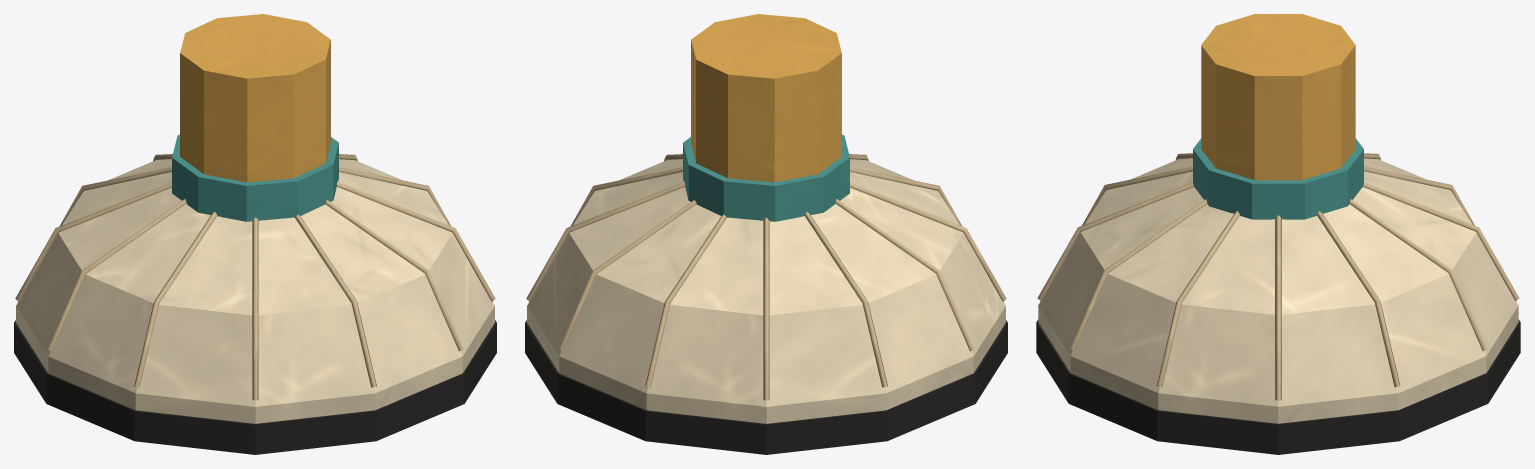
Rendered from tool_rubbing_pad.glb.
The picture shows the model from 3 angles, left to right: view 1: azimuth 30°, elevation 25°; view 2: azimuth 150°, elevation 25°; view 3: azimuth 270°, elevation 25°; orthographic projection.
Visible parts, largest first — view 1: tool_rubbing_pad__folded_paper_wrap, tool_rubbing_pad__handle, tool_rubbing_pad__rubbing_sole, tool_rubbing_pad__tie, tool_rubbing_pad__wrap_fold.008, tool_rubbing_pad__wrap_fold.007, tool_rubbing_pad__wrap_fold.009, tool_rubbing_pad__wrap_fold.011, tool_rubbing_pad__wrap_fold.006, tool_rubbing_pad__wrap_fold.005, tool_rubbing_pad__wrap_fold.010, tool_rubbing_pad__wrap_fold (+1 smaller); view 2: tool_rubbing_pad__folded_paper_wrap, tool_rubbing_pad__handle, tool_rubbing_pad__rubbing_sole, tool_rubbing_pad__tie, tool_rubbing_pad__wrap_fold.004, tool_rubbing_pad__wrap_fold.005, tool_rubbing_pad__wrap_fold.003, tool_rubbing_pad__wrap_fold.001, tool_rubbing_pad__wrap_fold.006, tool_rubbing_pad__wrap_fold.007, tool_rubbing_pad__wrap_fold.002, tool_rubbing_pad__wrap_fold.008 (+1 smaller); view 3: tool_rubbing_pad__folded_paper_wrap, tool_rubbing_pad__handle, tool_rubbing_pad__rubbing_sole, tool_rubbing_pad__tie, tool_rubbing_pad__wrap_fold, tool_rubbing_pad__wrap_fold.001, tool_rubbing_pad__wrap_fold.011, tool_rubbing_pad__wrap_fold.003, tool_rubbing_pad__wrap_fold.009, tool_rubbing_pad__wrap_fold.002, tool_rubbing_pad__wrap_fold.010, tool_rubbing_pad__wrap_fold.004 (+1 smaller).
Boxes of the visible parts, <box> form: tool_rubbing_pad__folded_paper_wrap: <box>16,159,494,423</box>; tool_rubbing_pad__handle: <box>180,14,330,182</box>; tool_rubbing_pad__rubbing_sole: <box>14,320,496,454</box>; tool_rubbing_pad__tie: <box>172,134,338,221</box>; tool_rubbing_pad__wrap_fold.008: <box>252,217,258,400</box>; tool_rubbing_pad__wrap_fold.007: <box>134,211,217,387</box>; tool_rubbing_pad__wrap_fold.009: <box>295,214,376,387</box>; tool_rubbing_pad__wrap_fold.011: <box>336,182,495,301</box>; tool_rubbing_pad__wrap_fold.006: <box>47,199,186,351</box>; tool_rubbing_pad__wrap_fold.005: <box>15,182,171,301</box>; tool_rubbing_pad__wrap_fold.010: <box>325,200,463,351</box>; tool_rubbing_pad__wrap_fold: <box>339,167,451,226</box>; tool_rubbing_pad__folded_paper_wrap: <box>527,159,1005,423</box>; tool_rubbing_pad__handle: <box>691,14,841,182</box>; tool_rubbing_pad__rubbing_sole: <box>525,320,1007,454</box>; tool_rubbing_pad__tie: <box>683,134,849,221</box>; tool_rubbing_pad__wrap_fold.004: <box>763,217,769,400</box>; tool_rubbing_pad__wrap_fold.005: <box>804,211,887,387</box>; tool_rubbing_pad__wrap_fold.003: <box>645,214,726,387</box>; tool_rubbing_pad__wrap_fold.001: <box>526,182,685,301</box>; tool_rubbing_pad__wrap_fold.006: <box>835,199,974,351</box>; tool_rubbing_pad__wrap_fold.007: <box>850,182,1006,301</box>; tool_rubbing_pad__wrap_fold.002: <box>558,200,696,351</box>; tool_rubbing_pad__wrap_fold.008: <box>850,167,962,226</box>; tool_rubbing_pad__folded_paper_wrap: <box>1038,158,1518,423</box>; tool_rubbing_pad__handle: <box>1201,14,1355,180</box>; tool_rubbing_pad__rubbing_sole: <box>1036,319,1520,454</box>; tool_rubbing_pad__tie: <box>1193,138,1363,219</box>; tool_rubbing_pad__wrap_fold: <box>1275,215,1281,400</box>; tool_rubbing_pad__wrap_fold.001: <box>1317,211,1400,387</box>; tool_rubbing_pad__wrap_fold.011: <box>1156,211,1239,387</box>; tool_rubbing_pad__wrap_fold.003: <box>1363,182,1519,300</box>; tool_rubbing_pad__wrap_fold.009: <box>1037,182,1193,300</box>; tool_rubbing_pad__wrap_fold.002: <box>1349,199,1486,350</box>; tool_rubbing_pad__wrap_fold.010: <box>1070,199,1207,350</box>; tool_rubbing_pad__wrap_fold.004: <box>1364,166,1474,225</box>.
Size of the model in its own units: 0.232 by 0.1625 by 0.232.
5 materials, 4 textured.
